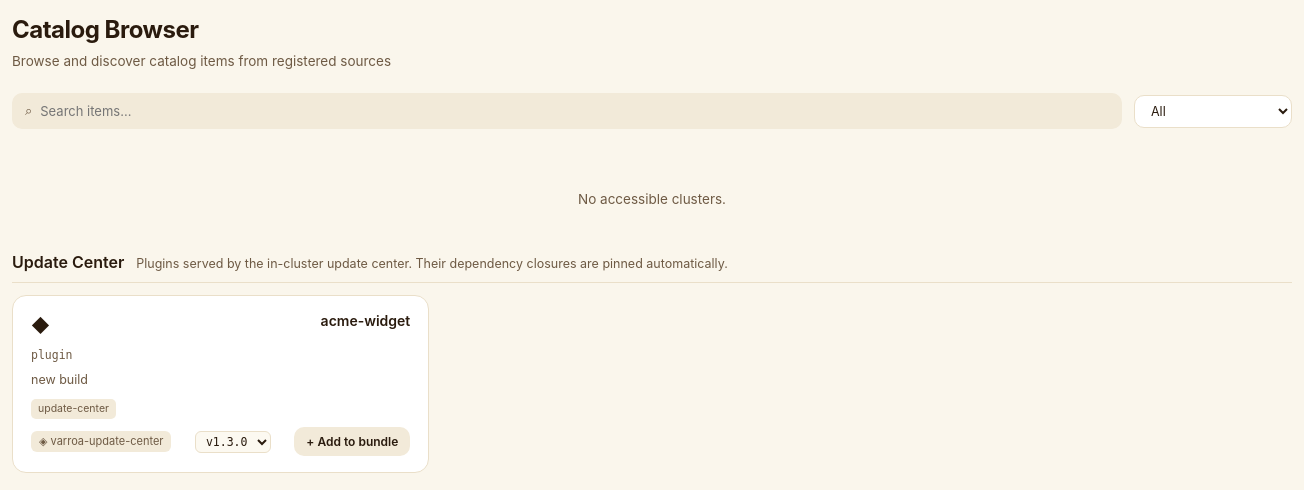
Test: CatalogBrowser — update center group › switching the version selector switches which item the row represents
Expected: the text "new build" is shown, [31,372,88,387]
Select "v1.2.0" in the dropdown named "Version for acme-widget" at [233, 442], box [195,431,271,453]
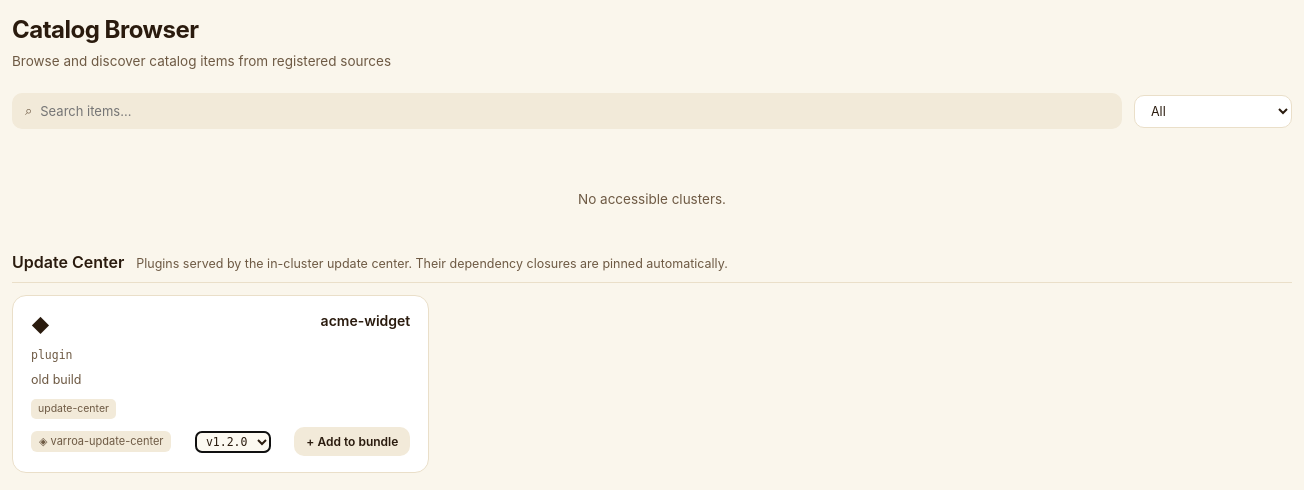
Now the text "old build" is shown, box [31,372,82,387]
Now the text "new build" is gone
